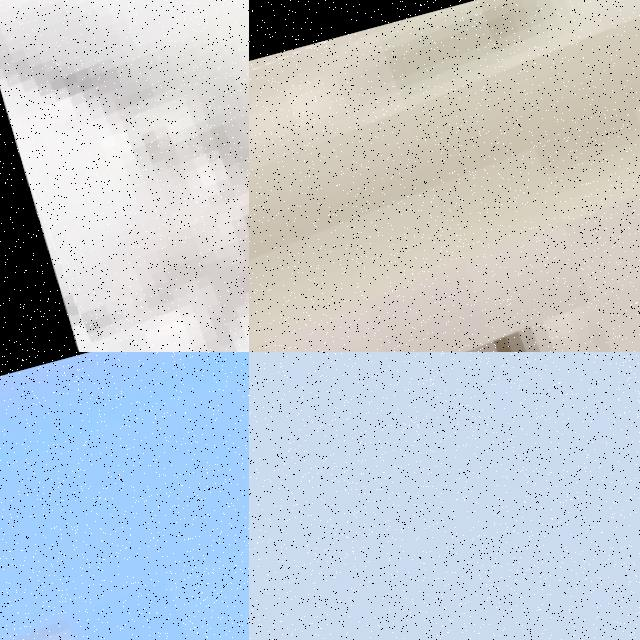0: (249, 0, 640, 352), (0, 352, 249, 640)
drone: (0, 0, 249, 352)
